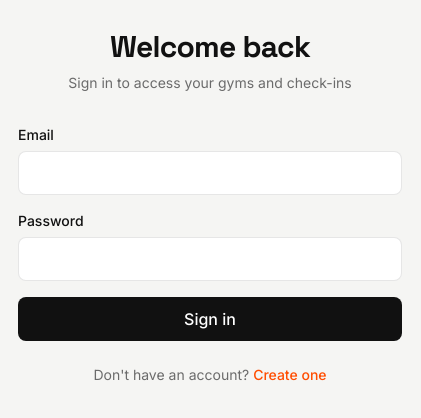
Test case: LoginPage › shows validation errors for empty fields
The image size is (421, 418).
Step 1. Click the button "Sign in" → (210, 319), box [18, 297, 402, 341]
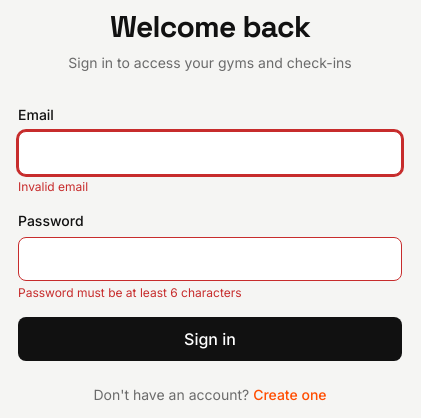
Result: the text "Invalid email" is shown at [18, 179, 88, 194]
Result: the text "Password must be at least 6 characters" is shown at [18, 285, 242, 300]
